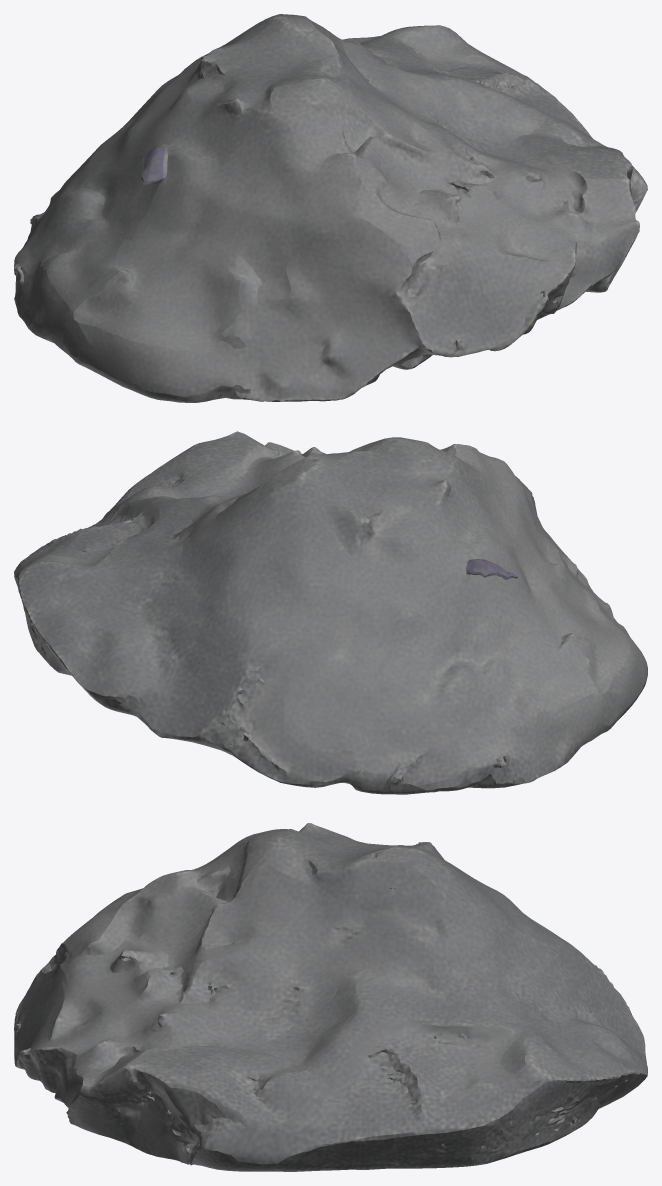
3 views of the same model, one above another, from view 1: azimuth 30°, elevation 25°; view 2: azimuth 150°, elevation 25°; view 3: azimuth 270°, elevation 25° (orthographic). The views are drawn at different scales.
Visible parts, largest first — view 1: world; view 2: world; view 3: world.
Boxes of the visible parts, x1=… form: world: x1=14, y1=14, x2=647, y2=402; world: x1=14, y1=431, x2=647, y2=794; world: x1=14, y1=823, x2=647, y2=1171.
Bounding box in the file's own units: 2.5 × 1.12 × 2.5.
Materials: 1 (1 with a texture image).
